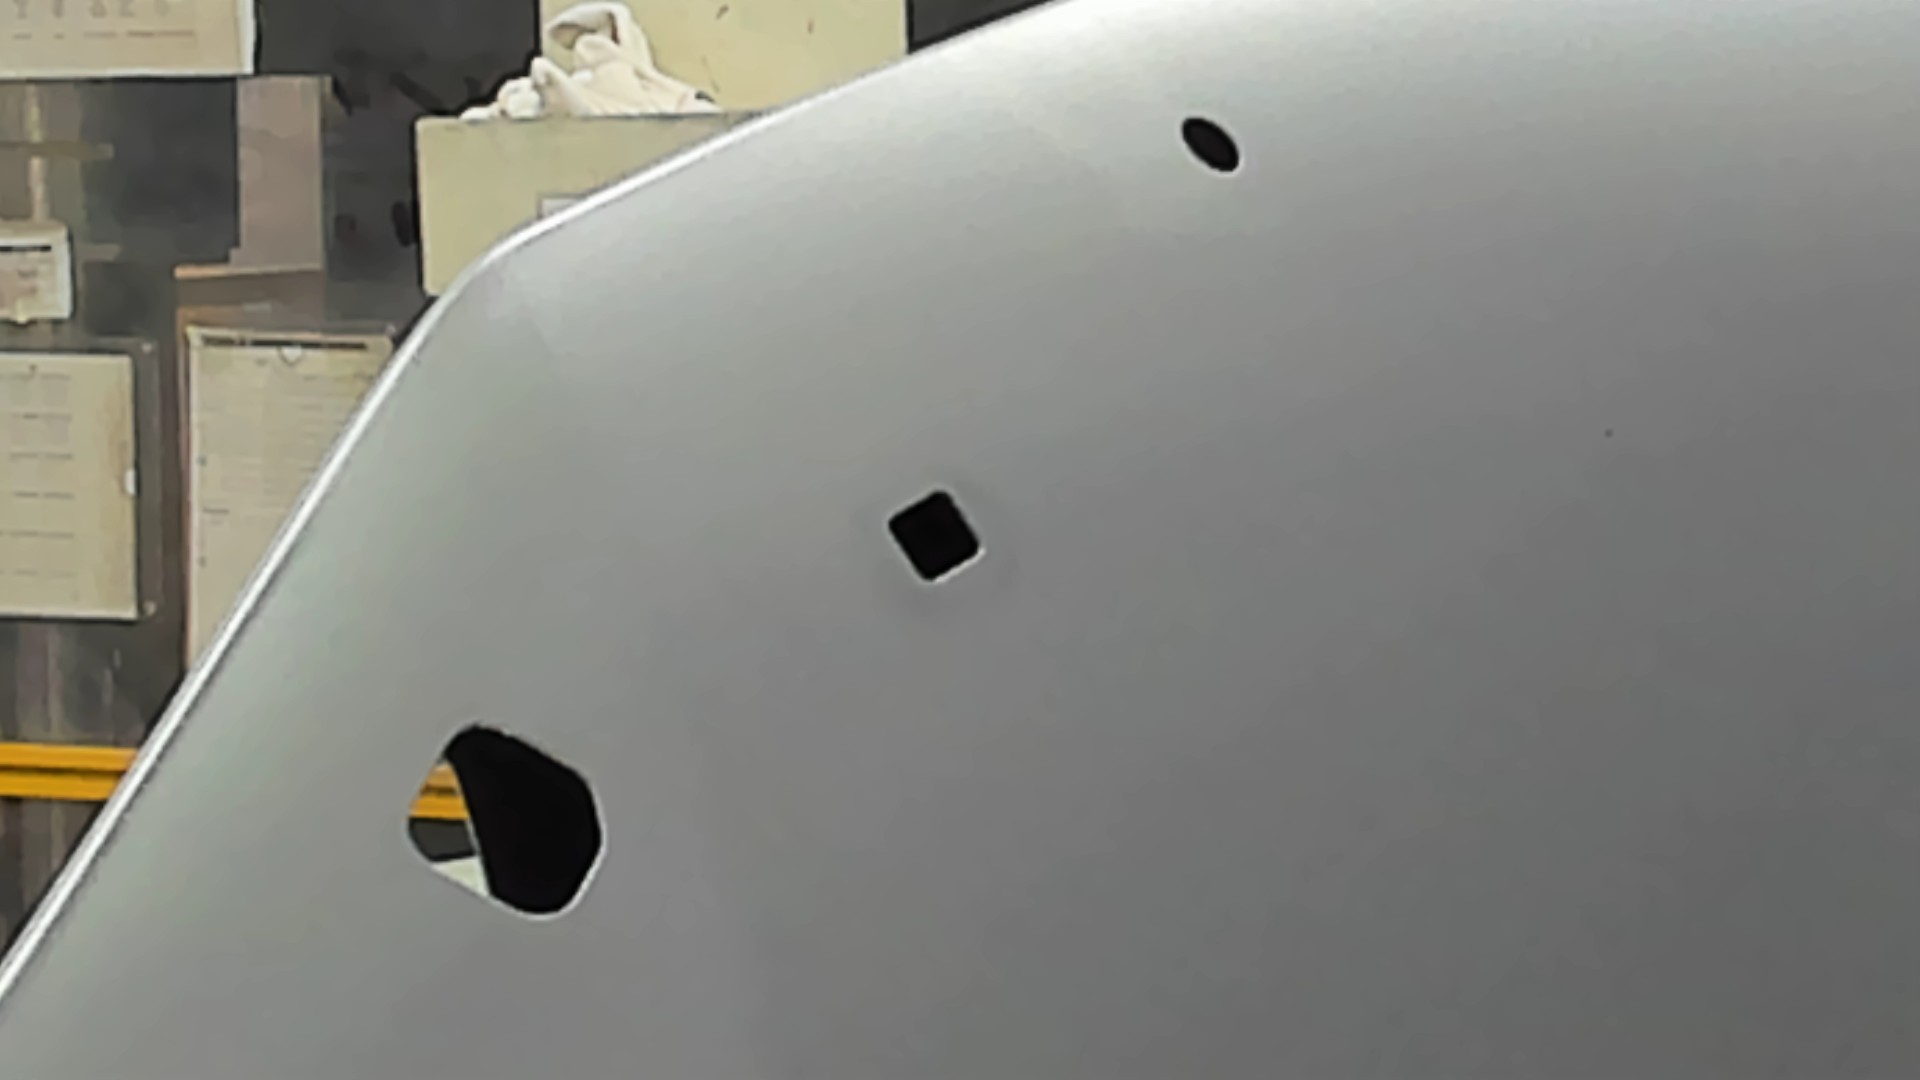chico: (1178, 113, 1245, 175)
grande: (404, 721, 609, 924)
mediano: (884, 488, 986, 585)
